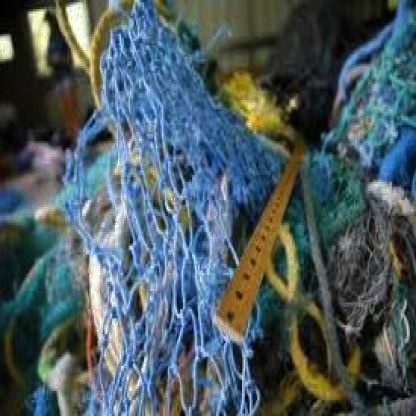net: (86, 13, 249, 416)
